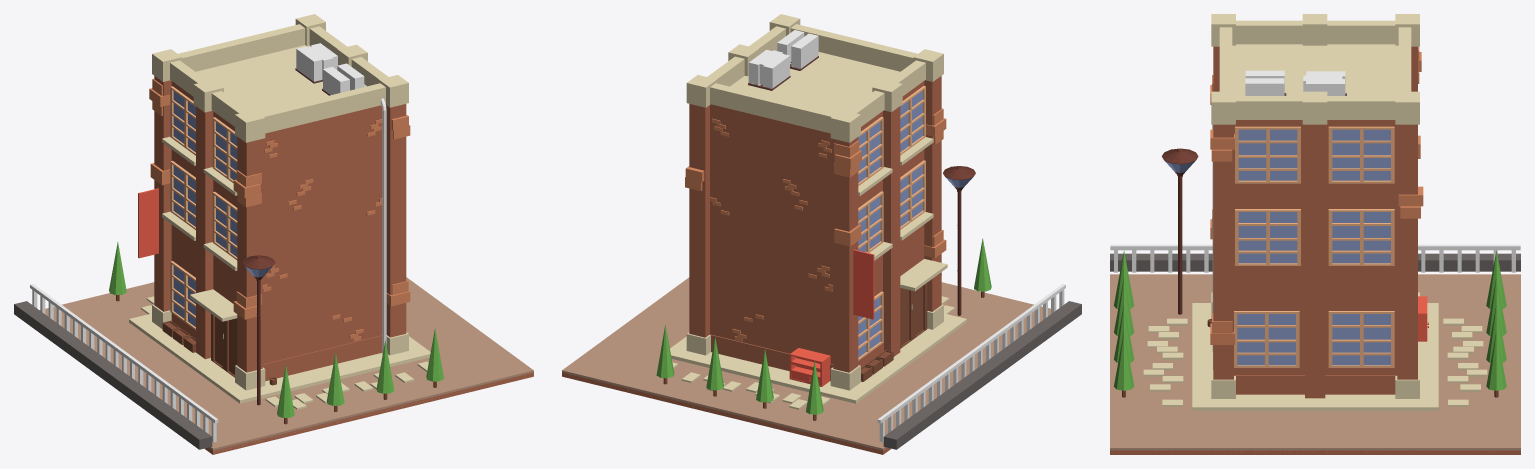
The model's file is house.glb.
The picture shows the model from 3 angles, left to right: view 1: azimuth 30°, elevation 25°; view 2: azimuth 150°, elevation 25°; view 3: azimuth 270°, elevation 25°; orthographic projection. The views are drawn at different scales.
Parts seen in each view (by area): view 1: 建筑体2, 平面.001, 建筑体1, 建筑雨台, 路基石2.001, 立方体.015, 立方体.012, 立方体.021, 立方体.009, 柱体, 立方体.007, 平面 (+26 smaller); view 2: 建筑体2, 平面.001, 建筑体1, 立方体.009, 立方体.010, 路基石2.001, 建筑雨台, 立方体.021, 立方体.012, 柱体.001, 立方体.007, 平面 (+27 smaller); view 3: 平面.001, 建筑体2, 建筑体1, 建筑雨台, 立方体.023, 立方体.010, 立方体.015, 石板路, 路基石2.001, 平面.010, 平面.013, 平面.014 (+27 smaller).
Part boxes in pixels (box(x1,y1,x2,y2)): 建筑体2: box(162, 24, 388, 283); 平面.001: box(39, 277, 533, 452); 建筑体1: box(171, 230, 382, 381); 建筑雨台: box(129, 313, 430, 403); 路基石2.001: box(14, 301, 212, 449); 立方体.015: box(386, 104, 406, 337); 立方体.012: box(237, 136, 262, 372); 立方体.021: box(196, 106, 213, 359); 立方体.009: box(154, 76, 171, 311); 柱体: box(277, 328, 443, 424); 立方体.007: box(32, 290, 216, 442); 平面: box(205, 372, 533, 454); 建筑体2: box(707, 24, 933, 283); 平面.001: box(562, 277, 1050, 450); 建筑体1: box(709, 230, 924, 380); 立方体.009: box(833, 137, 858, 372); 立方体.010: box(689, 104, 709, 337); 路基石2.001: box(883, 301, 1081, 449); 建筑雨台: box(670, 313, 966, 403); 立方体.021: box(883, 106, 900, 356); 立方体.012: box(924, 76, 941, 311); 柱体.001: box(656, 324, 823, 420); 立方体.007: box(879, 289, 1064, 441); 平面: box(562, 372, 890, 454); 平面.001: box(1110, 274, 1520, 452); 建筑体2: box(1219, 20, 1411, 286); 建筑体1: box(1234, 286, 1397, 394); 建筑雨台: box(1192, 303, 1438, 410); 立方体.023: box(1305, 124, 1325, 398); 立方体.010: box(1397, 124, 1417, 379); 立方体.015: box(1213, 124, 1233, 379); 石板路: box(1143, 318, 1487, 406); 路基石2.001: box(1110, 253, 1520, 271); 平面.010: box(1238, 129, 1297, 180); 平面.013: box(1332, 314, 1390, 365); 平面.014: box(1237, 314, 1295, 365).
Bounding box in the file's own units: 20.84 × 16.8 × 20.
